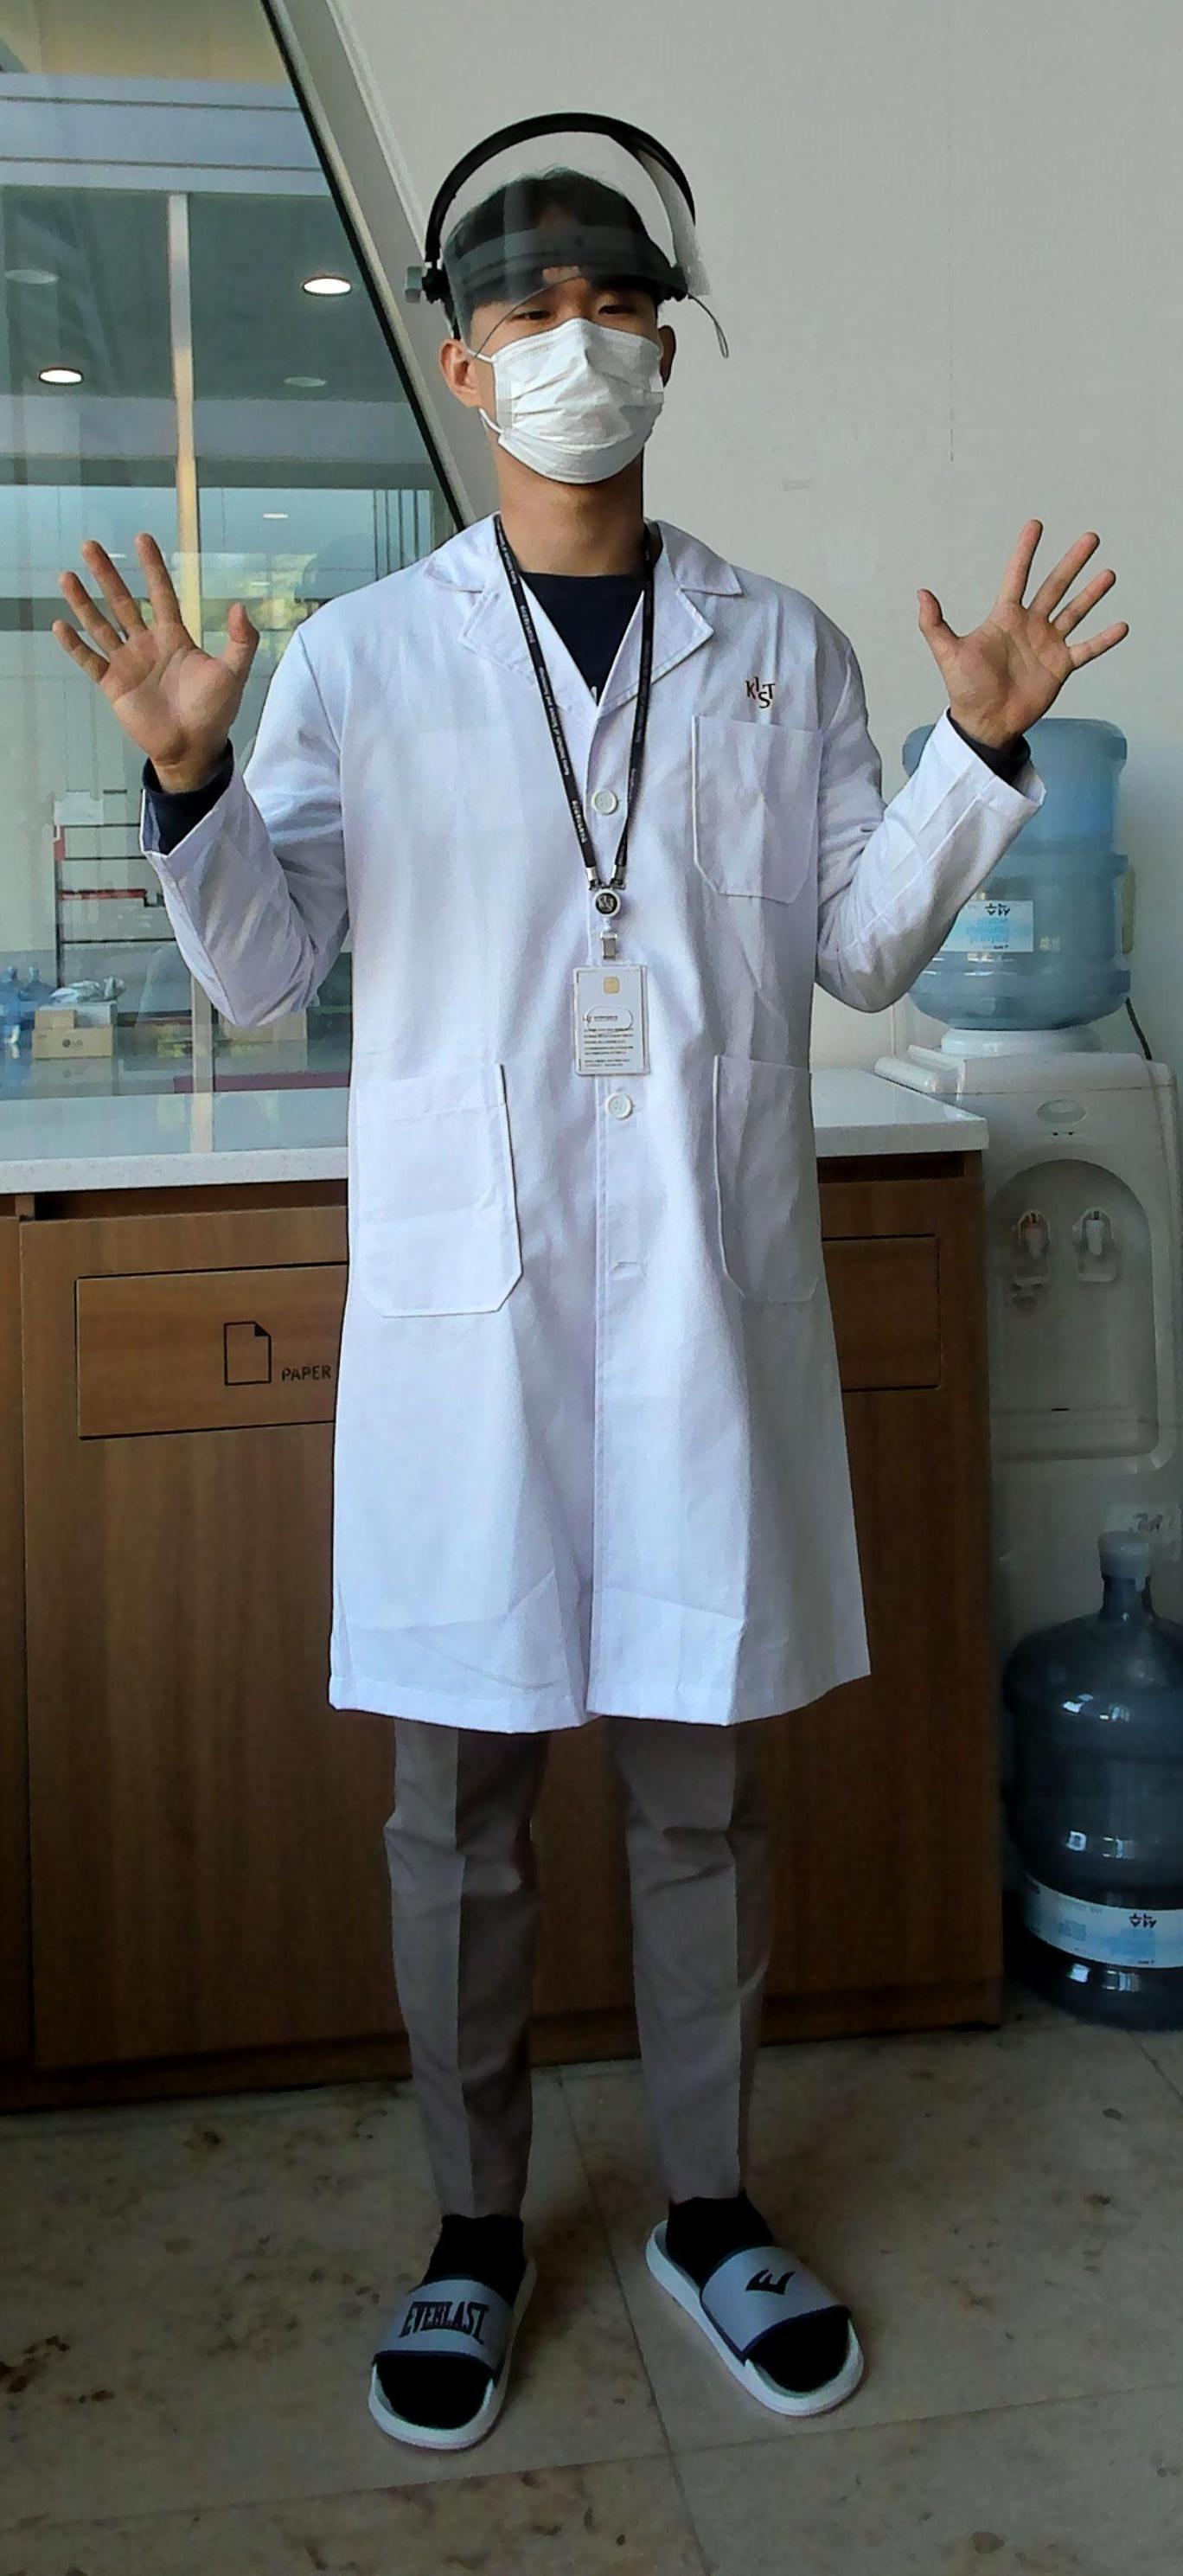lab_coat: (265, 601, 881, 1690)
